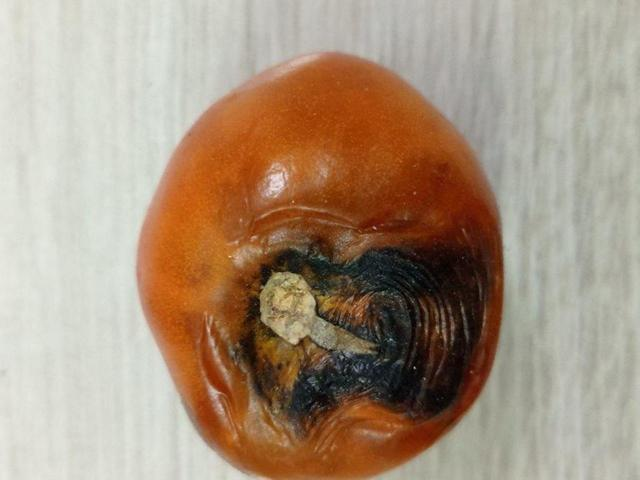defect: (129, 47, 511, 480)
